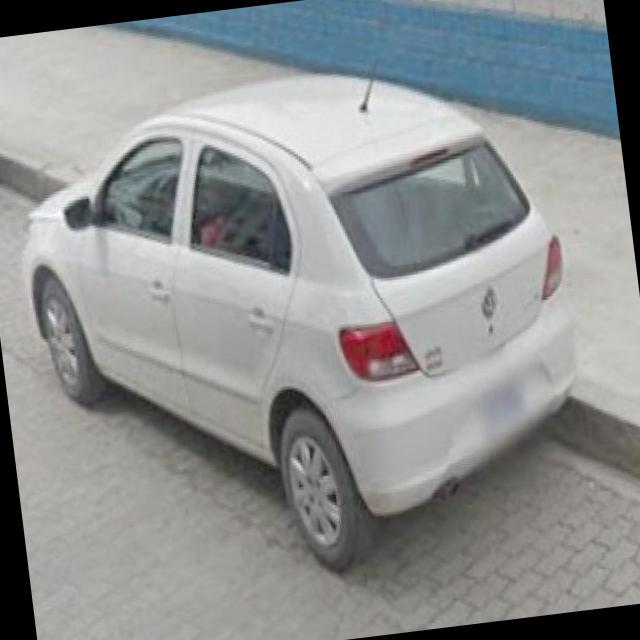car: (6, 39, 596, 592)
